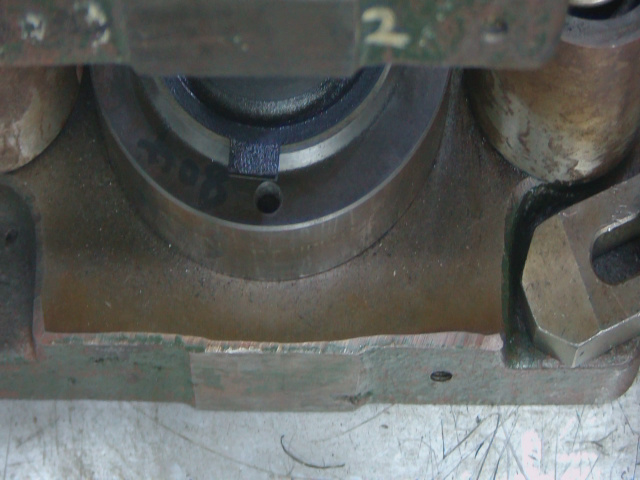HX1: (227, 136, 291, 189)
